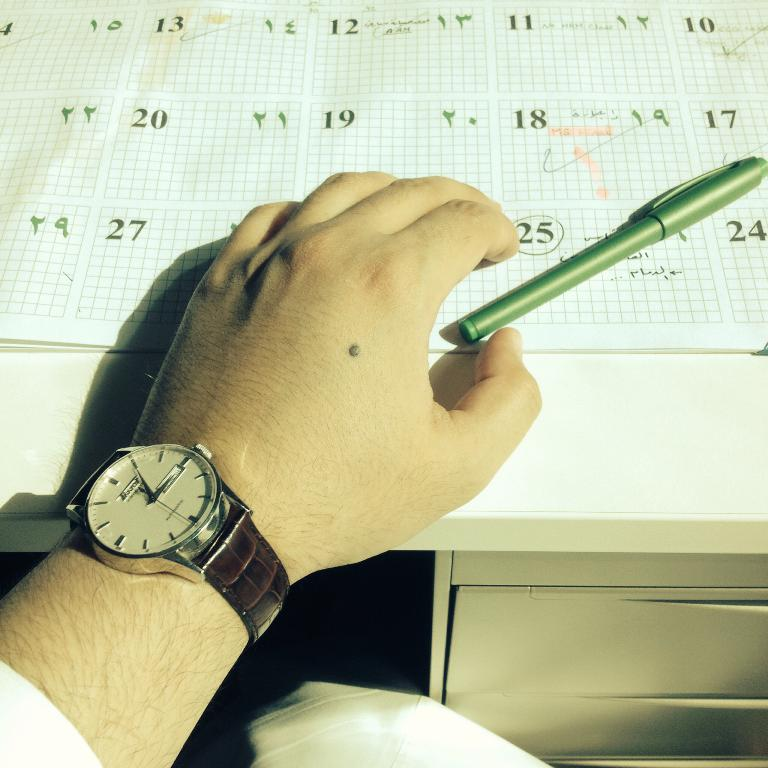Pen: (449, 150, 768, 339)
